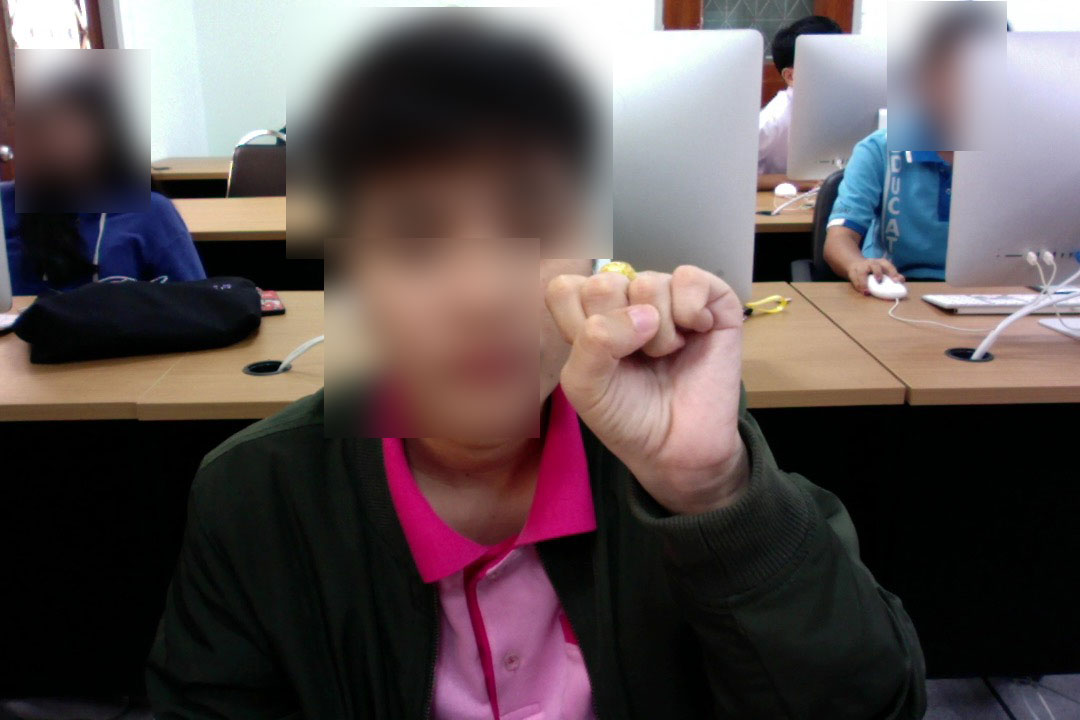sor: (538, 258, 769, 481)
